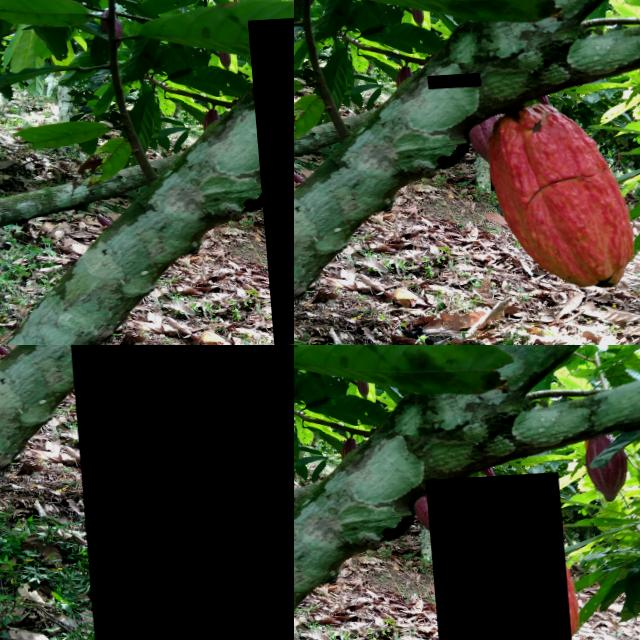Monilia: (62, 345, 294, 640)
Sana: (422, 477, 567, 640), (246, 15, 294, 345), (581, 62, 640, 207), (341, 254, 394, 327), (583, 442, 624, 510), (576, 90, 610, 164), (425, 77, 478, 92), (315, 77, 333, 104), (442, 109, 458, 123)
